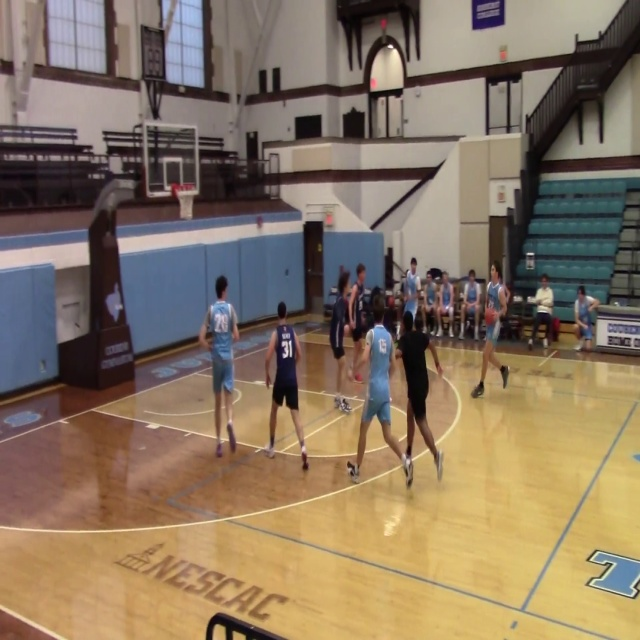Basketball: (483, 308, 497, 325), (354, 372, 363, 383)
